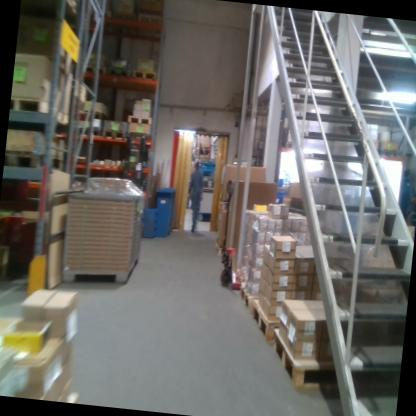pallet: (268, 321, 399, 395), (3, 146, 66, 180), (9, 91, 72, 121), (246, 293, 275, 349), (236, 278, 253, 314), (70, 122, 102, 141), (78, 108, 112, 123), (131, 68, 159, 85), (81, 62, 107, 80), (126, 110, 154, 126), (102, 127, 127, 142), (108, 65, 131, 78)
pallet_truck: (213, 178, 255, 292), (117, 130, 151, 188)
stillage: (58, 181, 148, 293)
